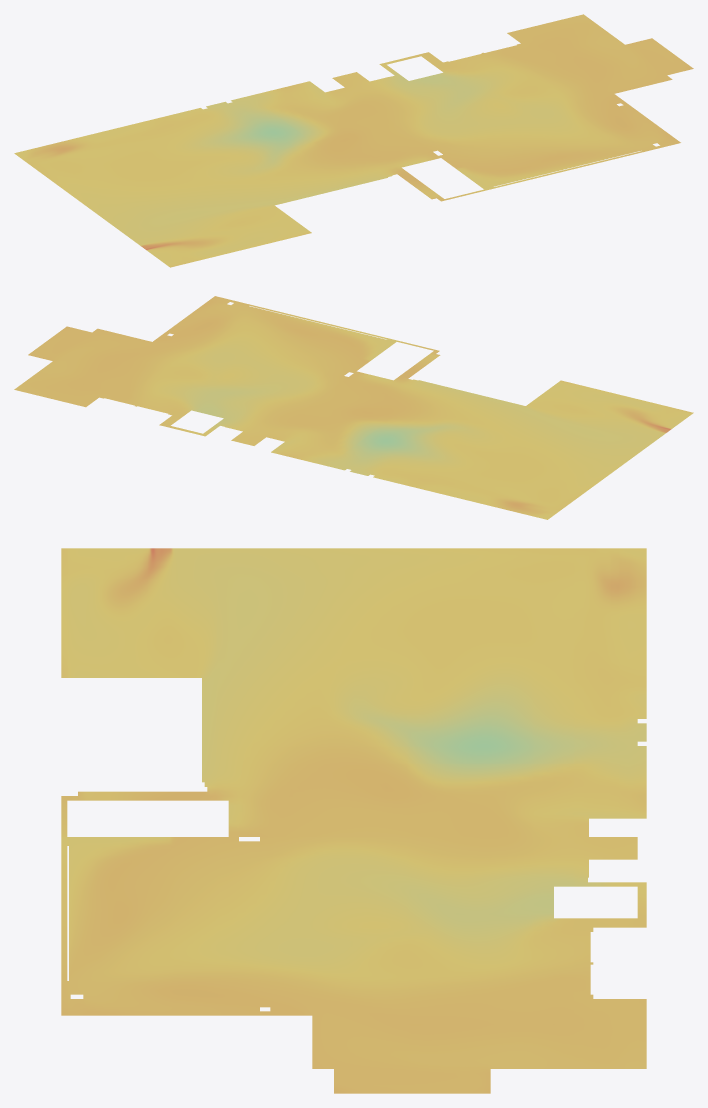
File: A_temperature_z1.7.glb
3 renders of one model, top to bottom at view 1: azimuth 30°, elevation 25°; view 2: azimuth 150°, elevation 25°; view 3: azimuth 270°, elevation 25°, orthographic. The views are drawn at different scales.
Size of the model in its own units: 7.18 by 0 by 3.26.
